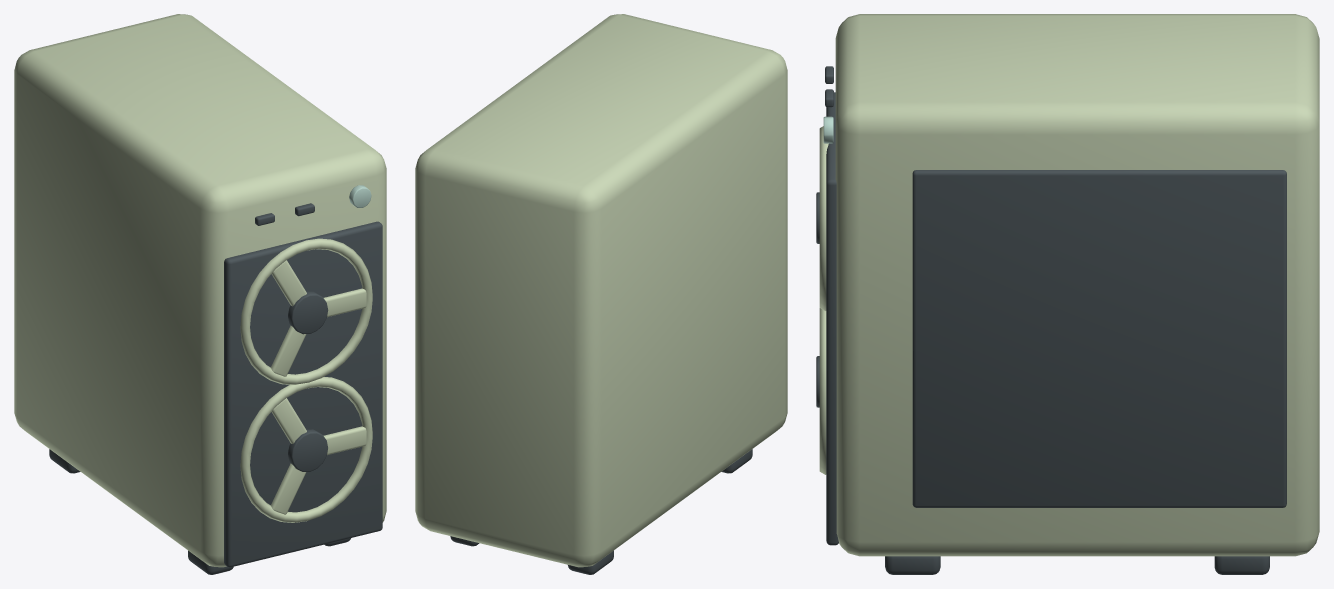
The model's file is pc-tower.glb.
3 renders of one model, left to right at view 1: azimuth 30°, elevation 25°; view 2: azimuth 150°, elevation 25°; view 3: azimuth 270°, elevation 25°, orthographic. The views are drawn at different scales.
Visible parts, largest first — view 1: catalog_surface_RealismUV; view 2: catalog_surface_RealismUV; view 3: catalog_surface_RealismUV.
Part boxes in pixels (<box>): catalog_surface_RealismUV: <box>14,14,386,574</box>; catalog_surface_RealismUV: <box>415,14,787,574</box>; catalog_surface_RealismUV: <box>816,14,1319,574</box>.
Size of the model in its own units: 0.23 by 0.47 by 0.45.
